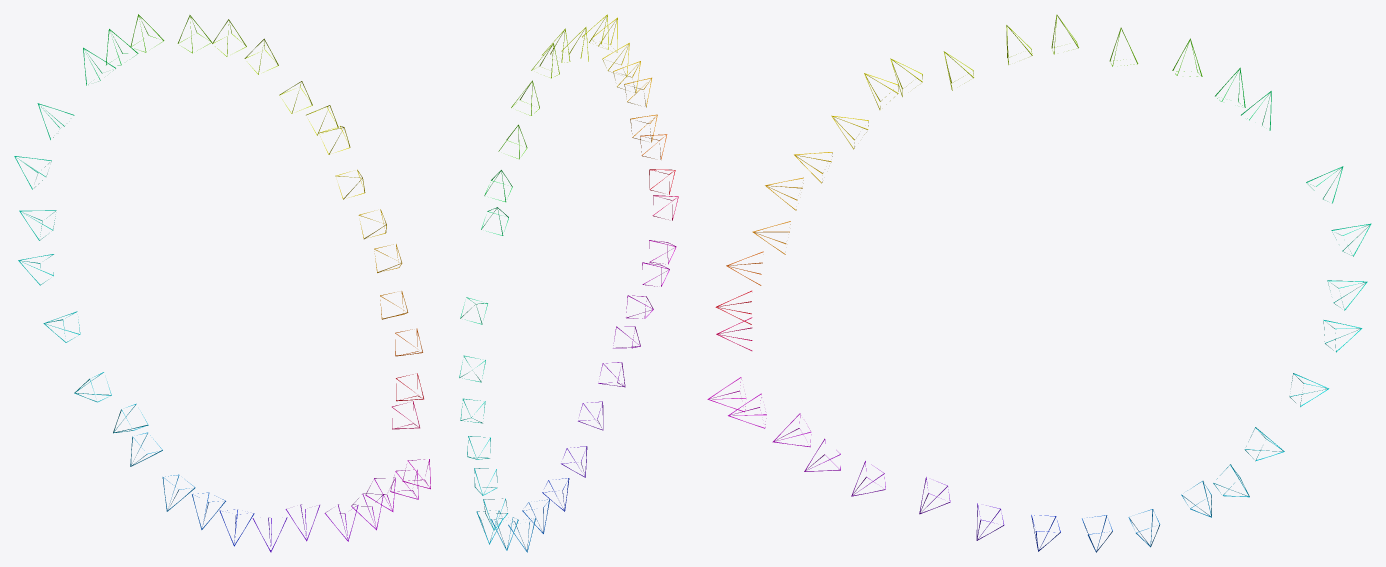
The model's file is vggt.glb.
3 views of the same model, side by side, from view 1: azimuth 30°, elevation 25°; view 2: azimuth 150°, elevation 25°; view 3: azimuth 270°, elevation 25° (orthographic). The views are drawn at different scales.
Parts seen in each view (by area): view 1: world; view 2: world; view 3: world.
Boxes of the visible parts, bbox=[...] form: world: bbox=[14, 14, 430, 552]; world: bbox=[459, 14, 678, 552]; world: bbox=[707, 14, 1371, 552].
Size of the model in its own units: 0.2408 by 1.08 by 1.2.
